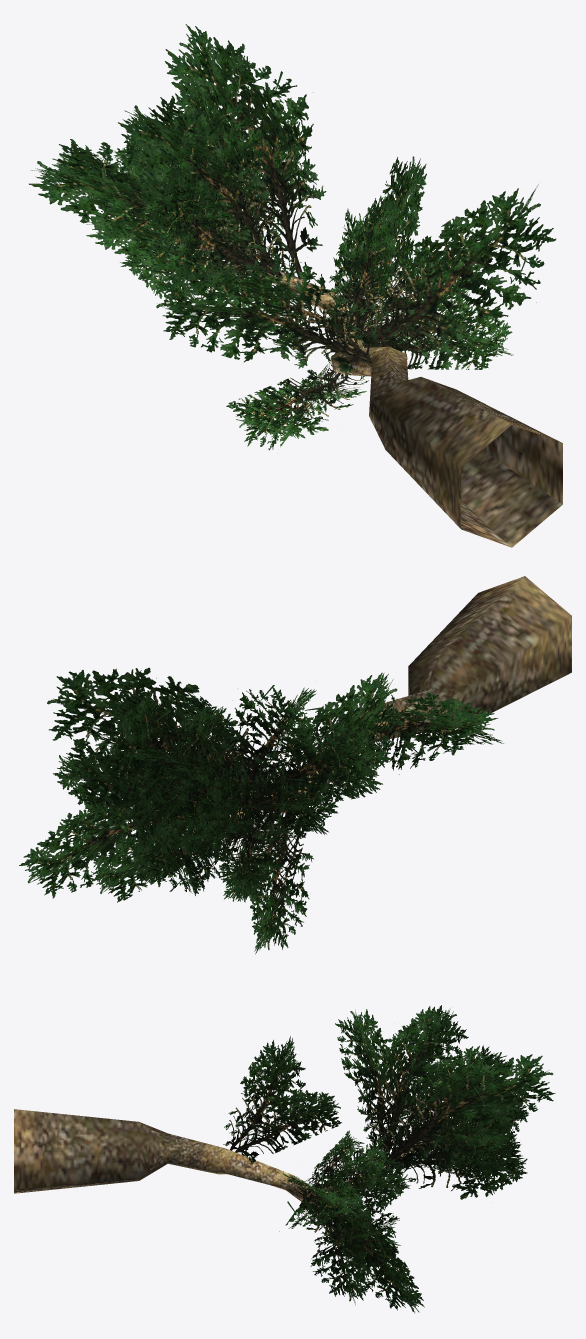
Rendered from aleppo_pine_2.glb.
3 renders of one model, top to bottom at view 1: azimuth 30°, elevation 25°; view 2: azimuth 150°, elevation 25°; view 3: azimuth 270°, elevation 25°, orthographic. The views are drawn at different scales.
Size of the model in its own units: 18.33 by 12.99 by 27.35.
Materials: 1 (1 with a texture image).
